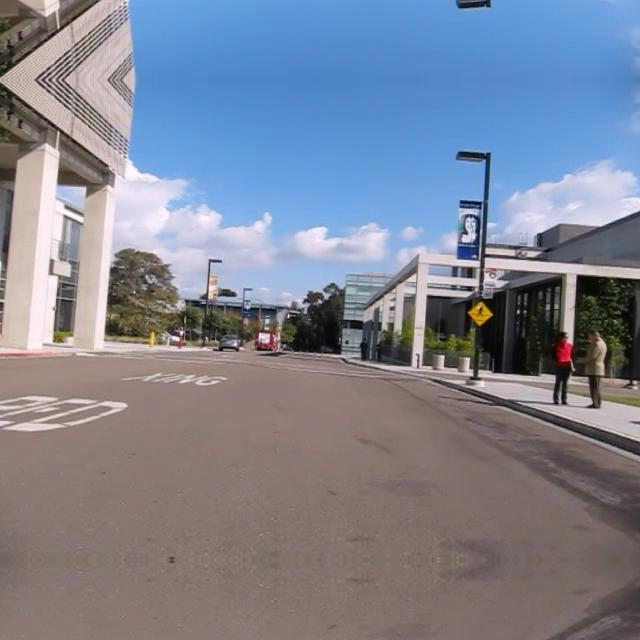pedestrianCrossing: (466, 298, 494, 326)
